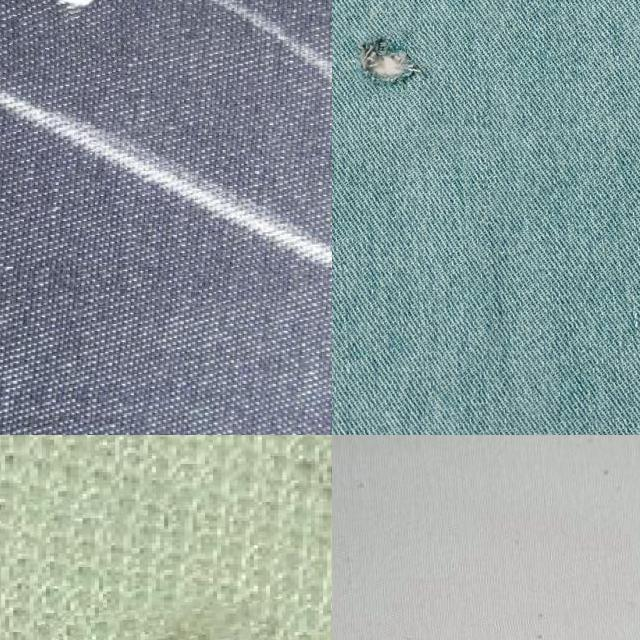other: (354, 30, 436, 98)
